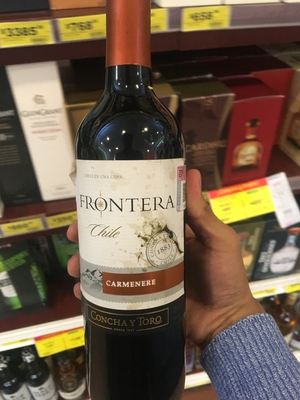frontera carmenere: (74, 2, 200, 400)
